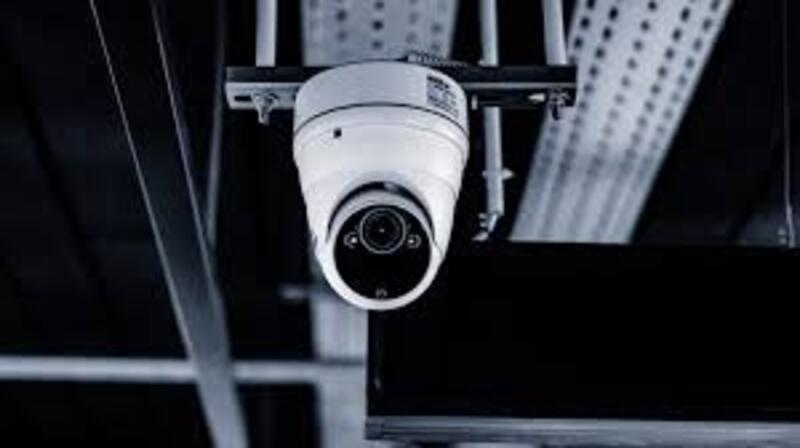turret: (285, 63, 464, 318)
